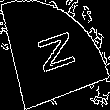N_W: (30, 29, 80, 81)
